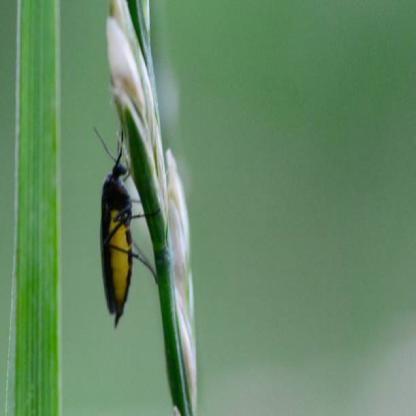sawfly: (88, 106, 161, 335)
